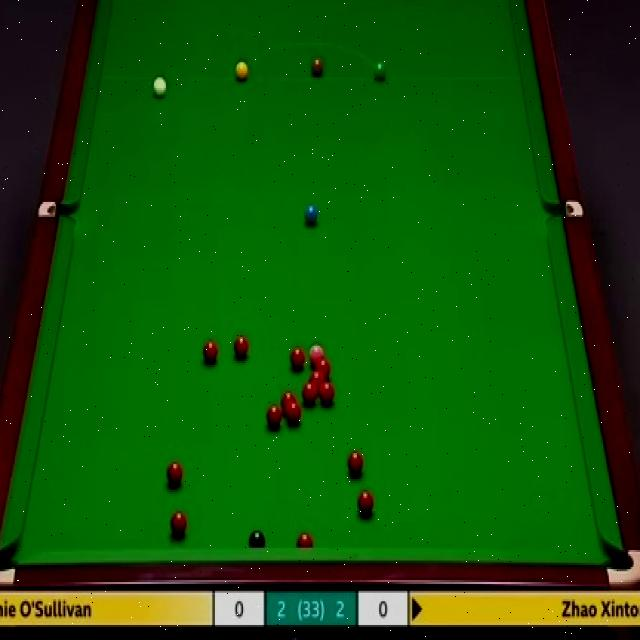black-ball: (249, 530, 267, 548)
blue-ball: (304, 205, 318, 223)
brown-ball: (312, 58, 324, 76)
green-ball: (372, 58, 388, 82)
pink-ball: (309, 344, 324, 366)
red-ball: (346, 448, 364, 476), (170, 512, 188, 538), (313, 356, 331, 382), (165, 461, 184, 484), (287, 348, 306, 370), (358, 490, 374, 516), (266, 403, 282, 429), (202, 341, 220, 363), (233, 332, 249, 356), (319, 381, 335, 402), (287, 401, 301, 423), (282, 391, 296, 412), (302, 382, 316, 402), (295, 532, 315, 546)
white-ball: (152, 75, 169, 98)
yellow-ball: (236, 60, 248, 82)
